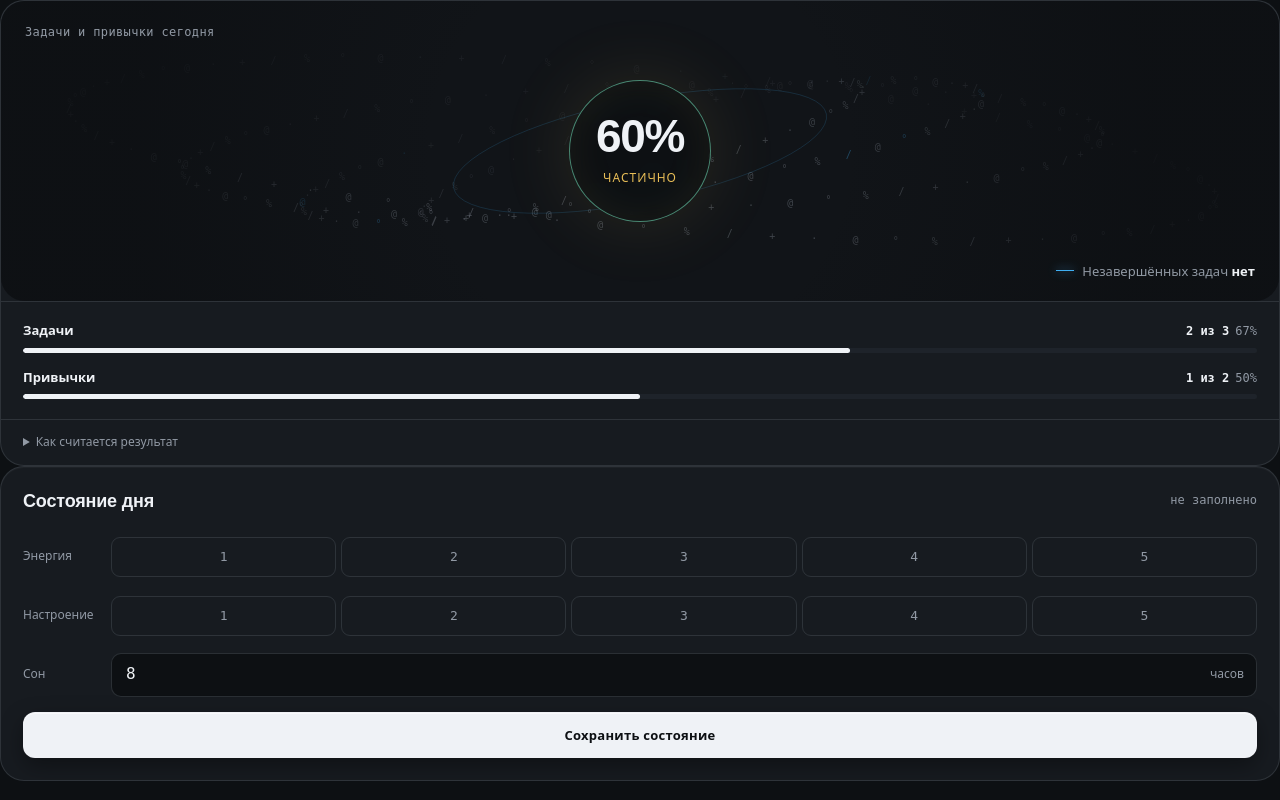
DaySignals › validates and preserves state drafts, and makes closed state immutable
Click the button named "Энергия 5".
click(1144, 557)  # box [1032,537,1257,577]
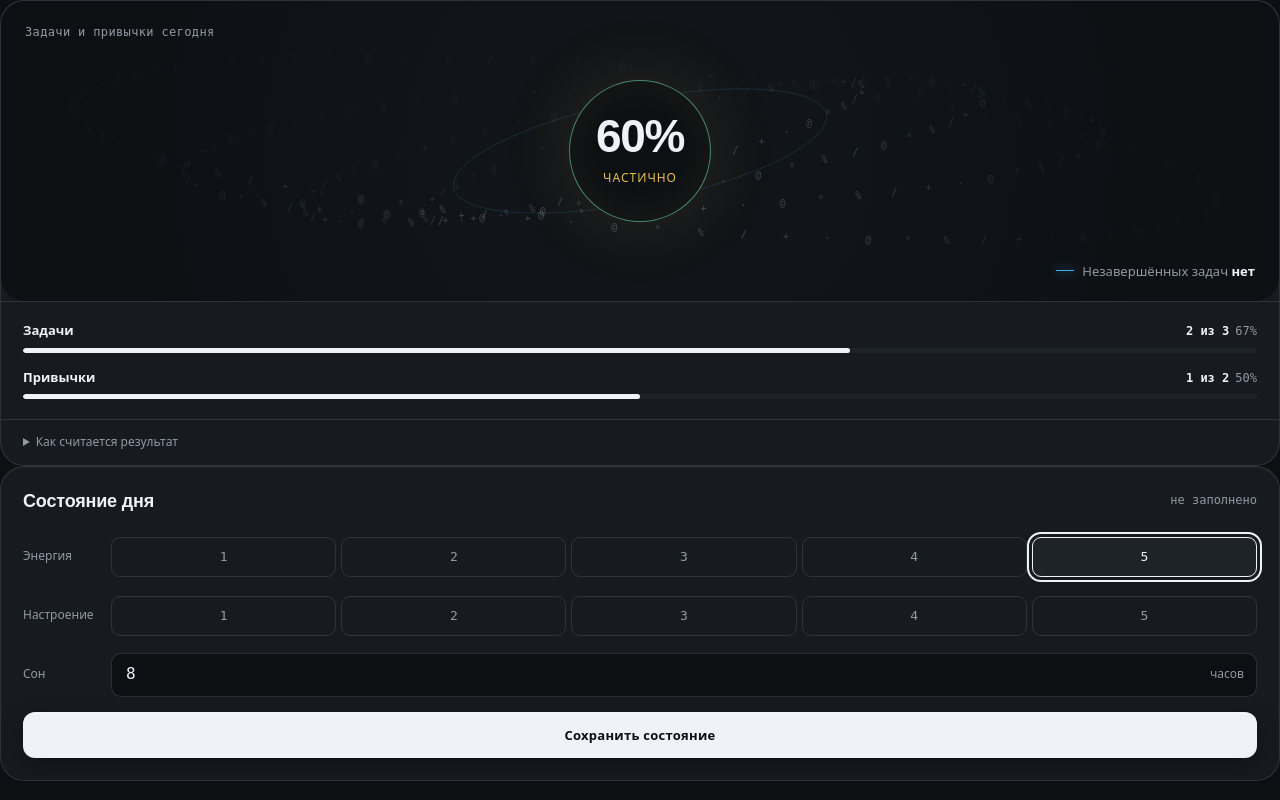
Replace the text in the number field labelled "Сон часов" with "-1" at [667, 675], box [124,661,1210,688]
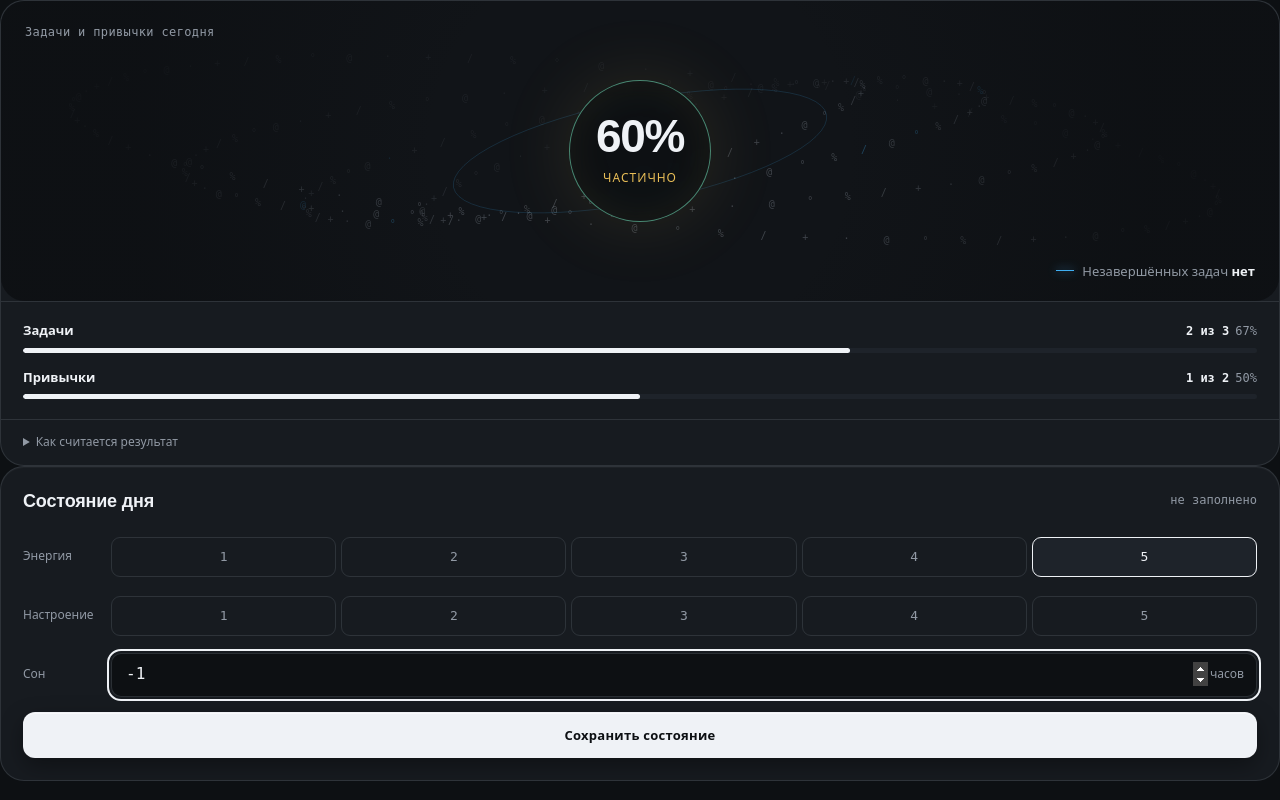
Click the button "Сохранить состояние".
click(640, 735)  # box [23,712,1257,758]
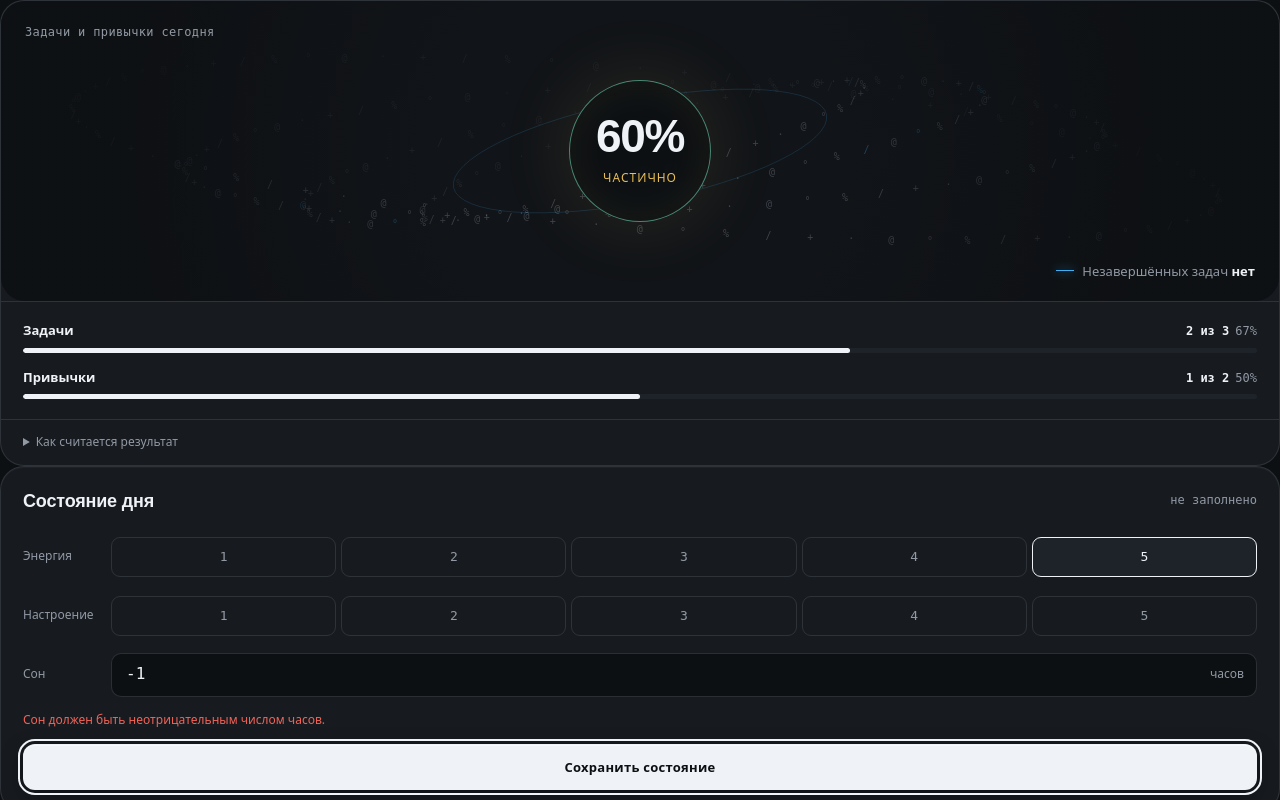
Expected: the message shows "неотрицательным", [23,711,325,728]
